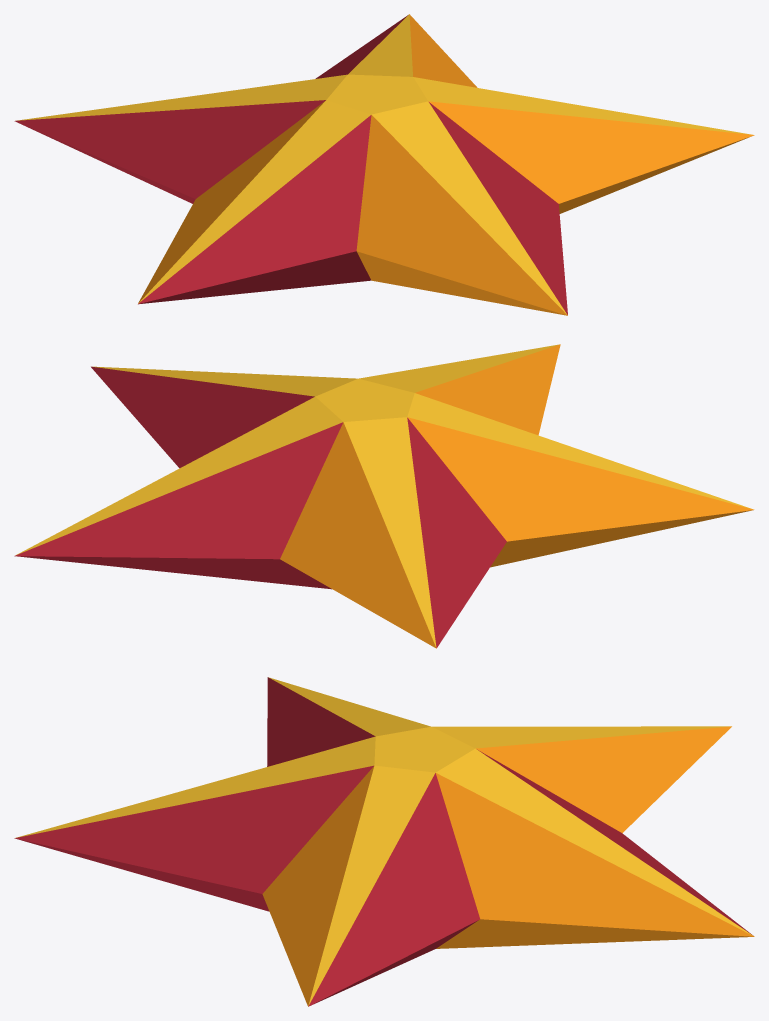
File: Star.glb
The picture shows the model from 3 angles, top to bottom: view 1: azimuth 30°, elevation 25°; view 2: azimuth 150°, elevation 25°; view 3: azimuth 270°, elevation 25°; orthographic projection. The views are drawn at different scales.
Parts seen in each view (by area): view 1: Star; view 2: Star; view 3: Star.
Part boxes in pixels (x1,y1,x2,y2): Star: (14, 14, 754, 315); Star: (14, 344, 754, 648); Star: (14, 677, 754, 1006).
Size of the model in its own units: 2.56 by 0.6381 by 2.43.
1 material, 1 textured.
